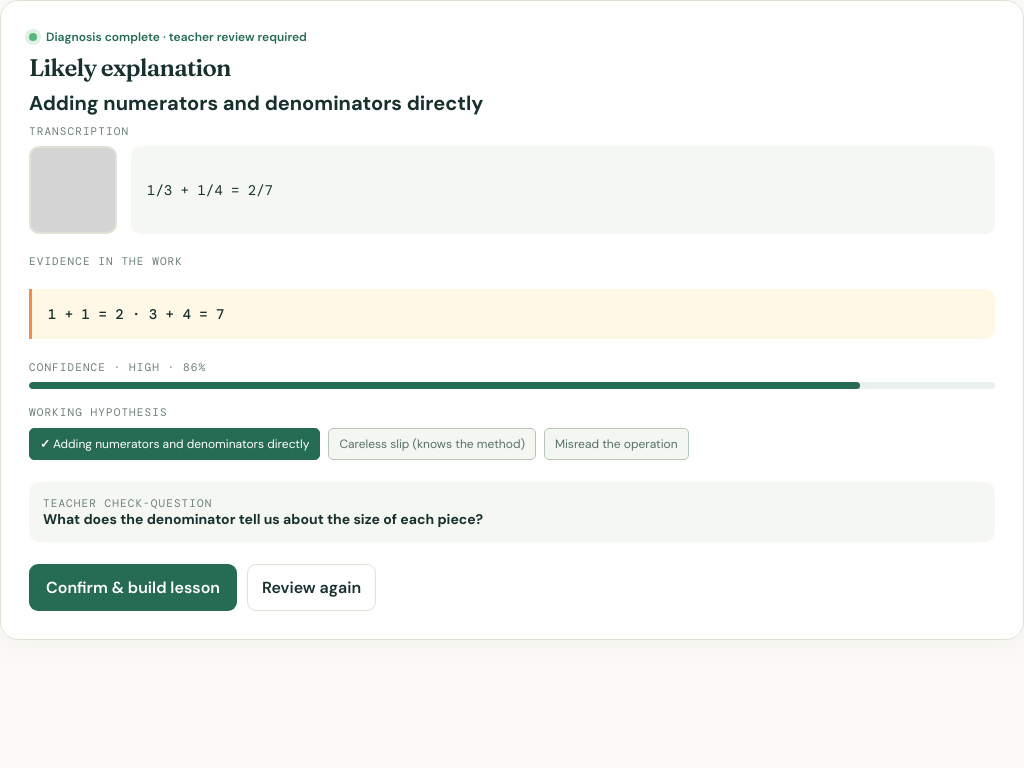
Test case: DiagnosisCard › selects the primary by default and updates the heading from a chip
The width and height of the screenshot is (1024, 768).
Click the button "Careless slip (knows the method)" at coordinates (432, 444), box [328, 428, 536, 460]
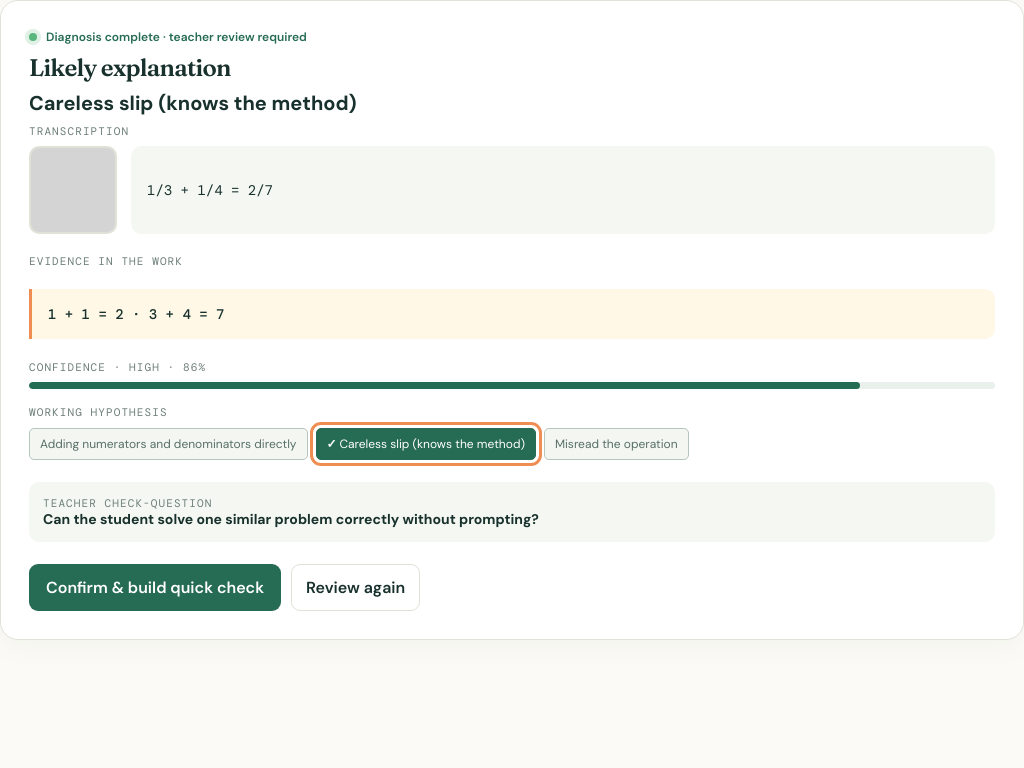
Result: the heading "Careless slip (knows the method)" is shown at [29, 90, 357, 116]
